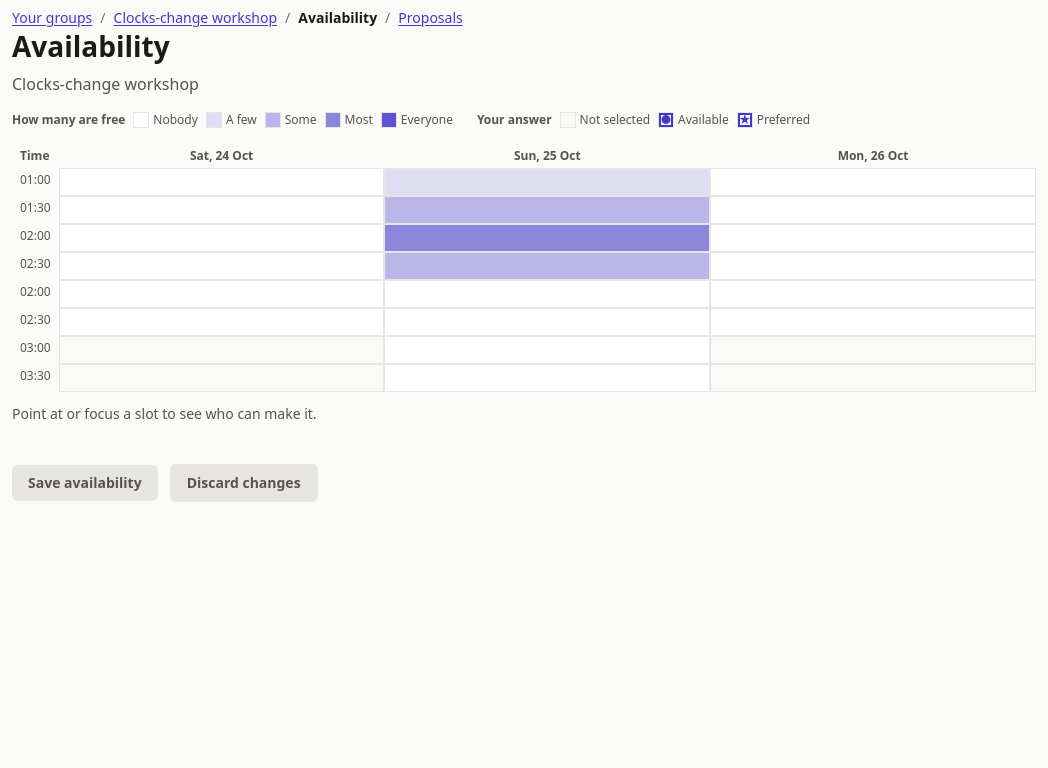
Scenario: AvailabilityBoard errors › falls back to the shared notice for a code with no wording of its own
This screenshot has width=1048, height=768.
Press the mouse on the cell named "Sat, 24 Oct at 01:00" at {"x": 222, "y": 182}, box [59,168,384,196]
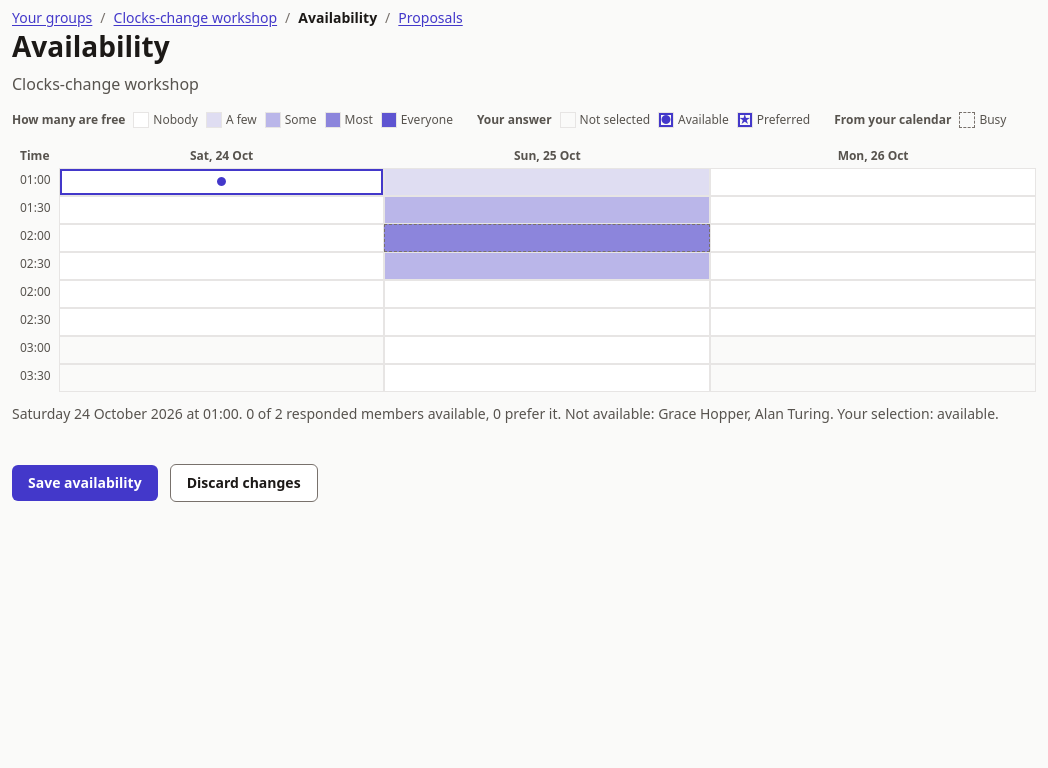
Click the button "Save availability".
click(85, 483)  # box [12,465,158,501]
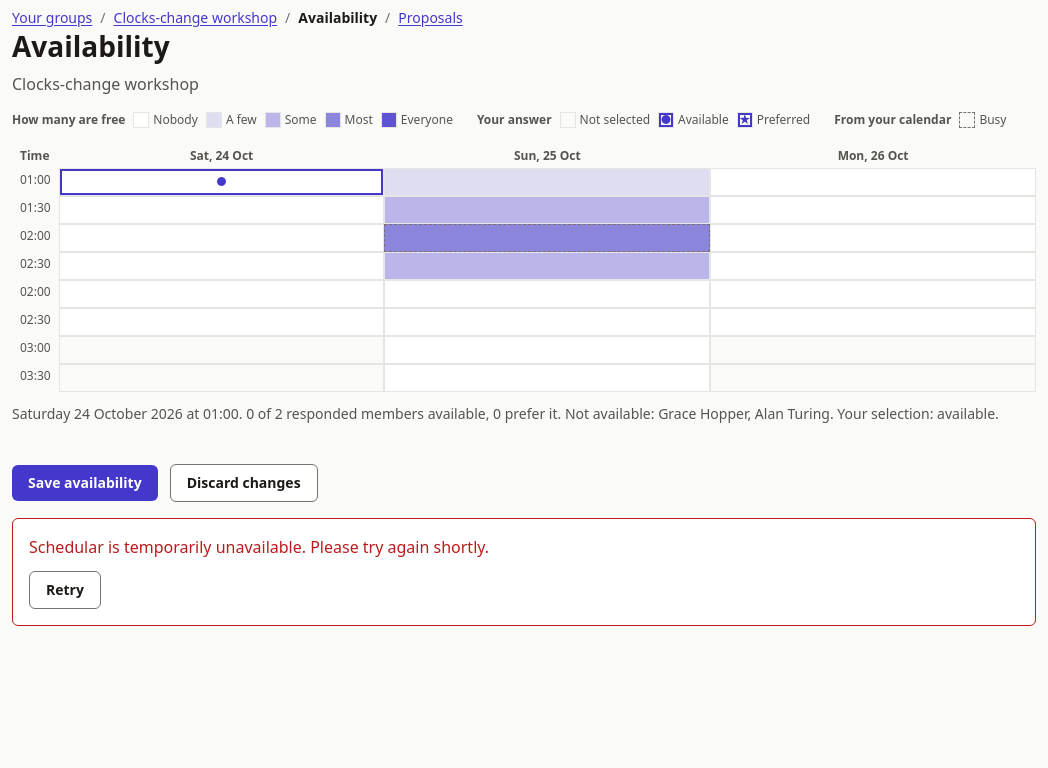
Check: the text "temporarily unavailable" is shown, box [29,536,489,558]
Check: the button "Retry" is enabled, box [29,571,101,609]
